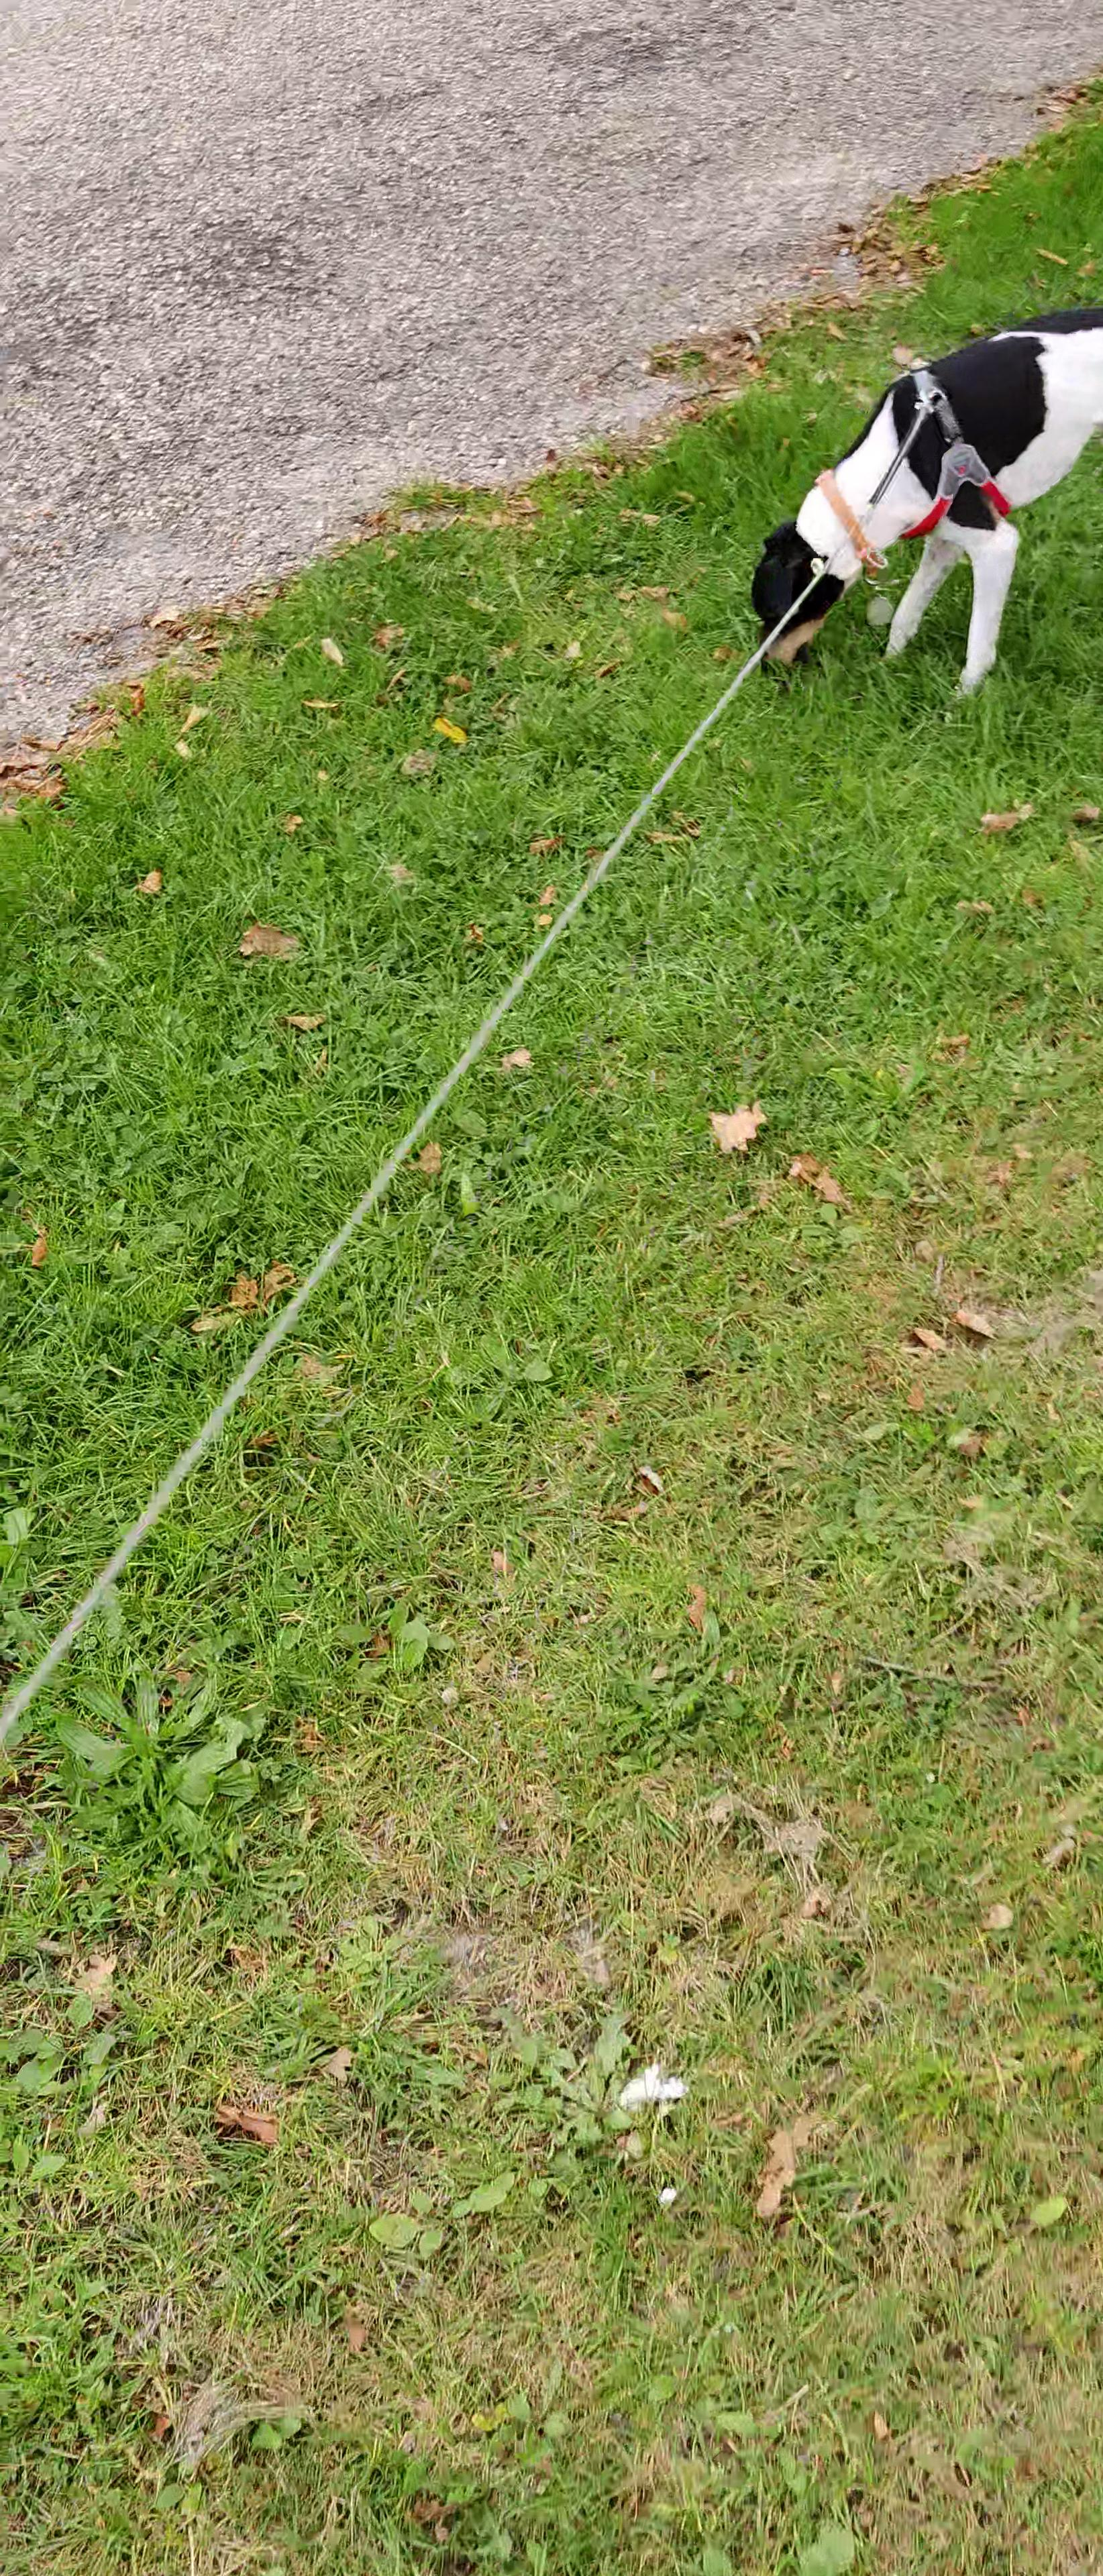Dog: (727, 283, 1103, 703)
